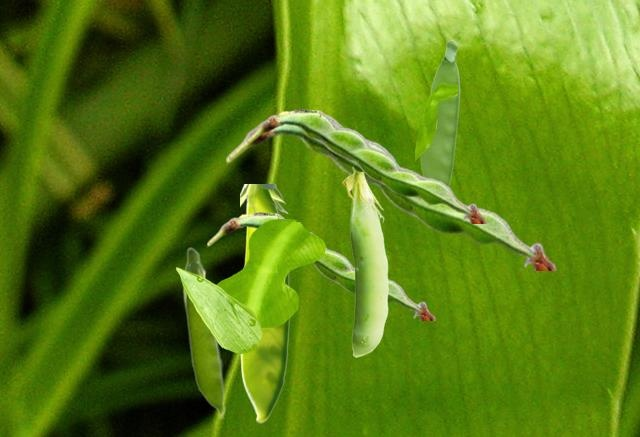pea: (226, 113, 556, 269), (245, 109, 486, 222), (207, 212, 435, 319), (240, 184, 289, 422), (342, 166, 387, 356), (182, 246, 225, 418), (420, 39, 459, 185)
